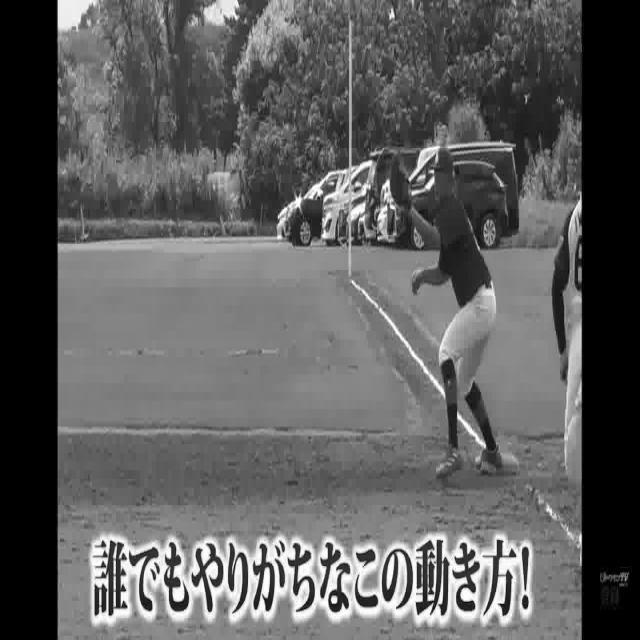base: (464, 452, 522, 470)
baseball_glove: (388, 151, 412, 207)
shoe: (434, 440, 462, 482), (474, 444, 500, 470)
